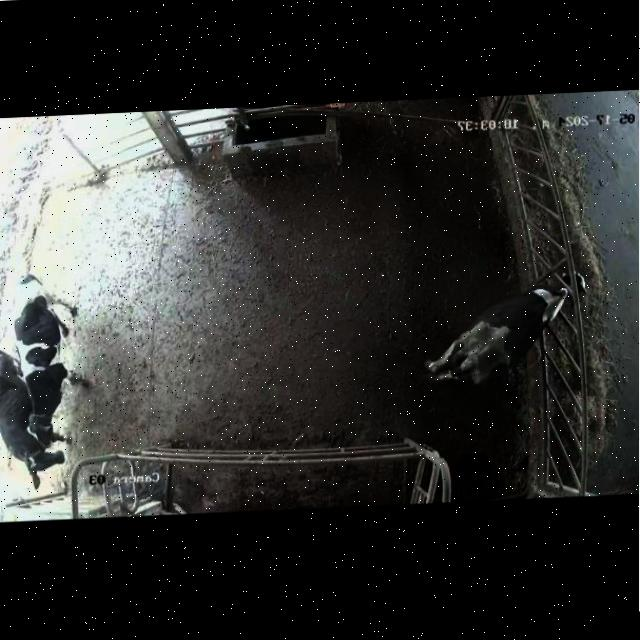eat: (522, 248, 610, 325)
stand: (24, 260, 96, 443), (1, 324, 64, 489)
